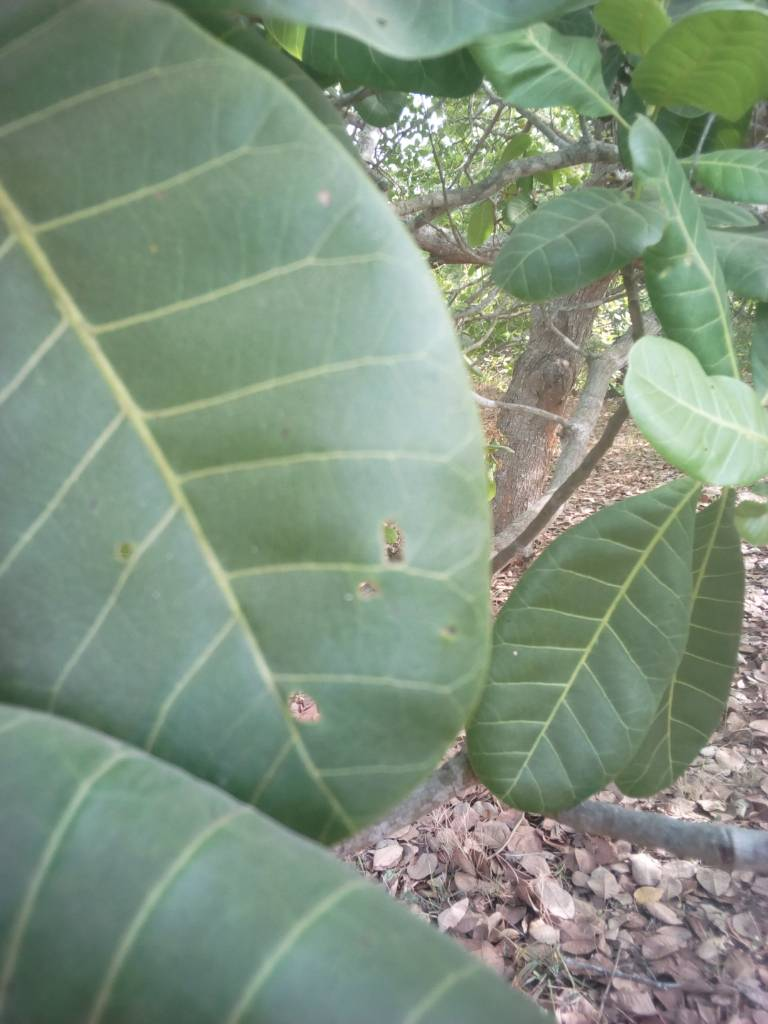Anoplonemis curvipes: (71, 344, 475, 777)
